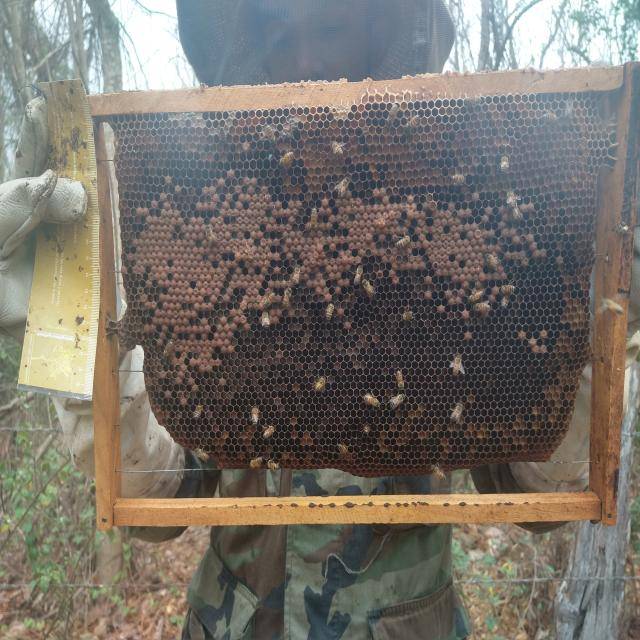cria: (120, 169, 551, 457)
marco: (94, 90, 622, 496)
